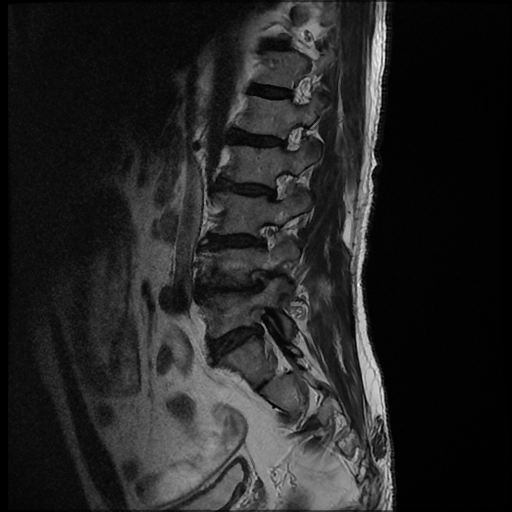RFS0: (271, 119, 322, 160)
